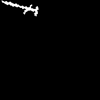double_crochet: (2, 1, 37, 15)
